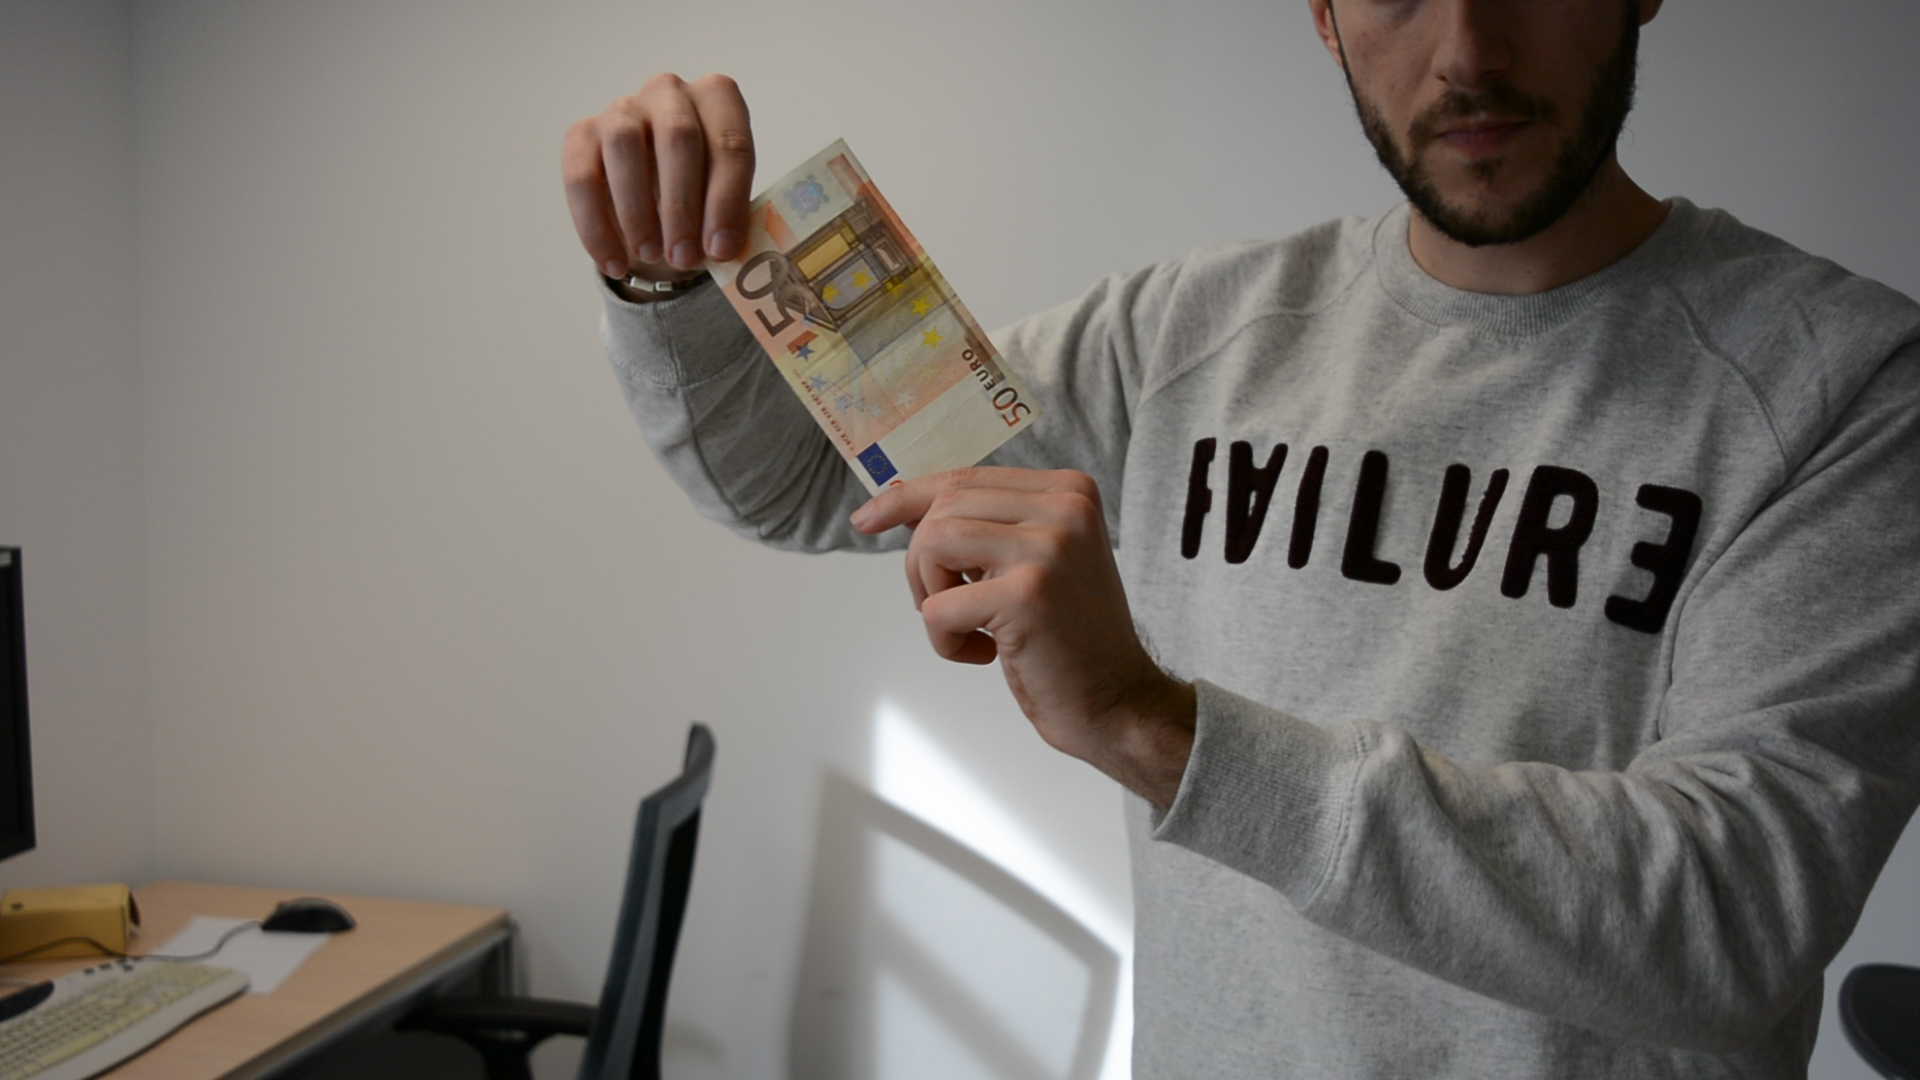billete: (699, 136, 1044, 500)
